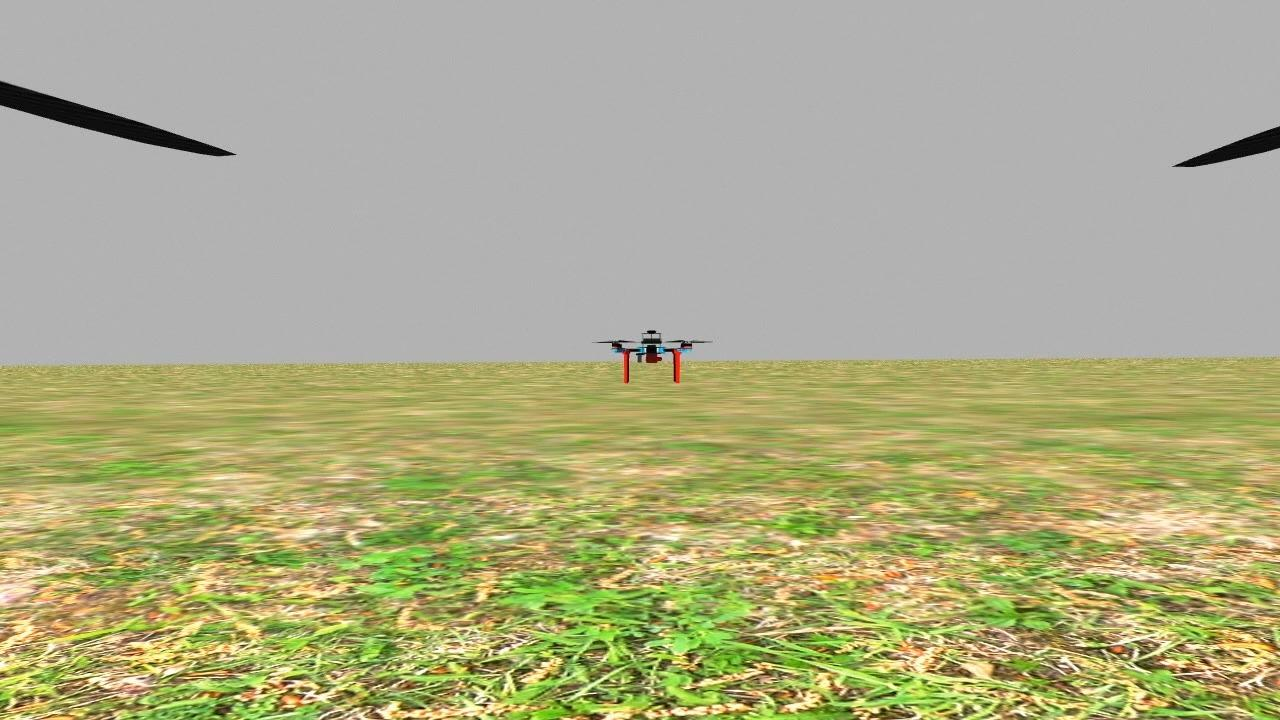UAV: (584, 318, 719, 390)
